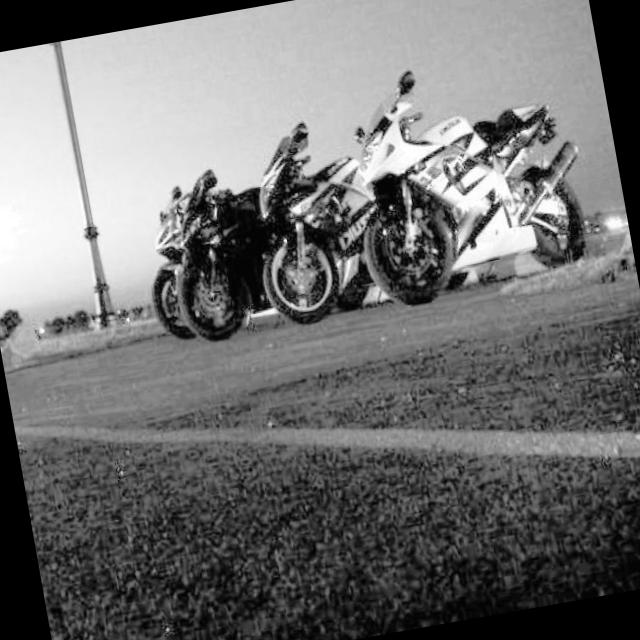Motorcycle: (323, 27, 609, 350), (232, 112, 394, 342), (153, 146, 292, 358), (122, 158, 224, 344)
